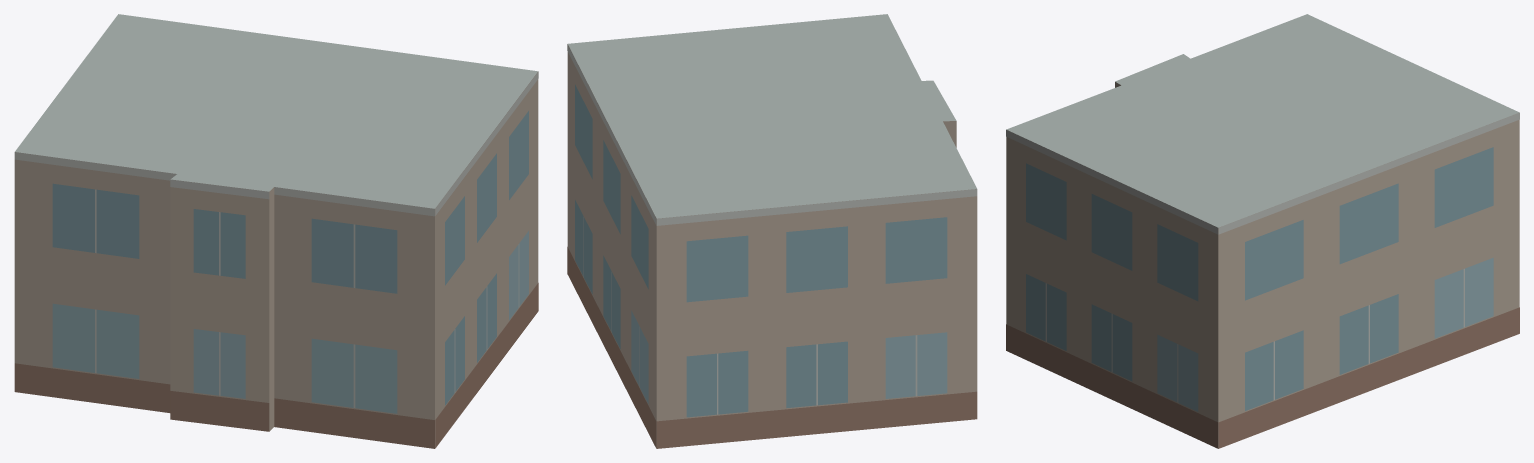
File: survey-upis-32918107.glb
3 views of the same model, side by side, from view 1: azimuth 30°, elevation 25°; view 2: azimuth 150°, elevation 25°; view 3: azimuth 270°, elevation 25° (orthographic). The views are drawn at different scales.
Parts seen in each view (by area): view 1: survey-upis-32918107.tmp; view 2: survey-upis-32918107.tmp; view 3: survey-upis-32918107.tmp.
Boxes of the visible parts, <box> form: survey-upis-32918107.tmp: <box>14,14,538,448</box>; survey-upis-32918107.tmp: <box>567,14,977,448</box>; survey-upis-32918107.tmp: <box>1006,14,1519,448</box>.
Bounding box in the file's own units: 15.97 × 7.7 × 16.22.
